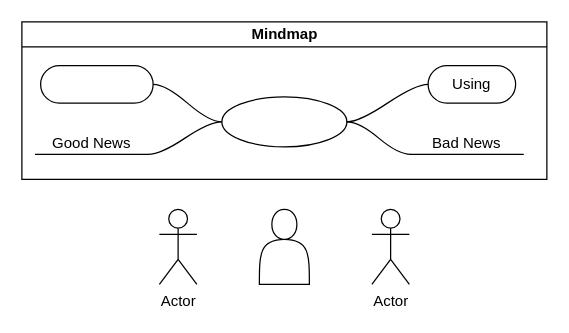
This 569x333 diagram has some shape labels left out. Each missing label, with the centre of its shape:
Installing: point (96, 83)
PowerShell 7: point (284, 121)
